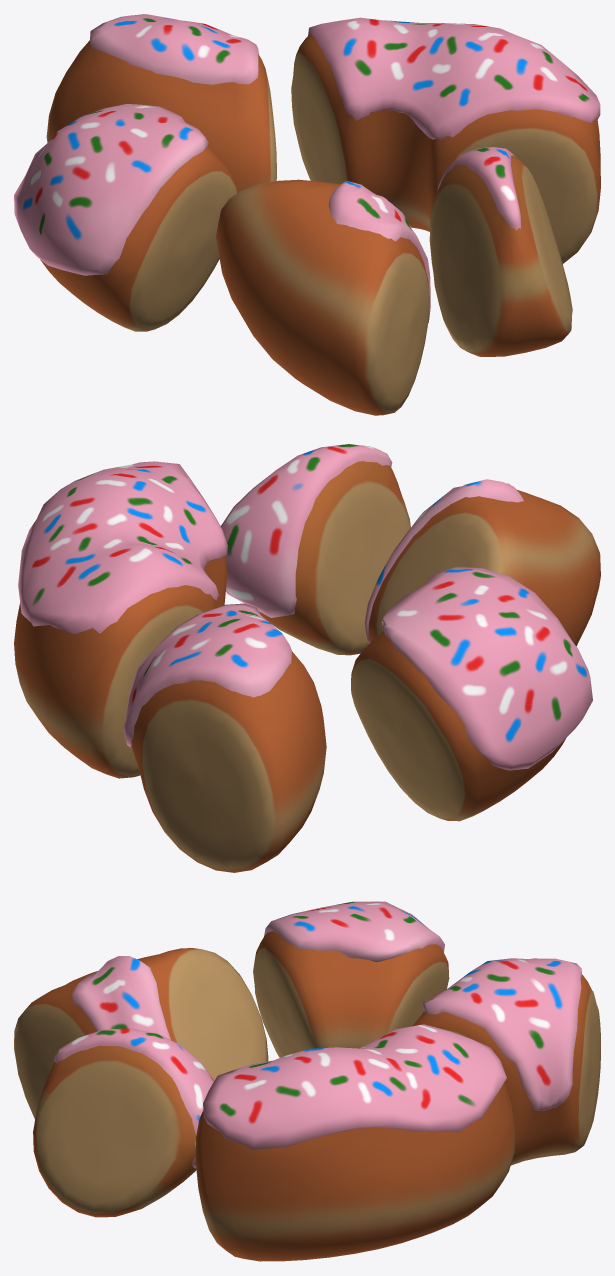
The model's file is Rosquilla.FBX.
3 views of the same model, one above another, from view 1: azimuth 30°, elevation 25°; view 2: azimuth 150°, elevation 25°; view 3: azimuth 270°, elevation 25° (orthographic). The views are drawn at different scales.
Visible parts, largest first — view 1: Rosquilla; view 2: Rosquilla; view 3: Rosquilla.
Part boxes in pixels (x1,y1,x2,y2): Rosquilla: [14, 14, 600, 415]; Rosquilla: [14, 444, 600, 872]; Rosquilla: [14, 901, 600, 1261].
Size of the model in its own units: 15803 by 6642 by 16745.
1 material, 1 textured.
